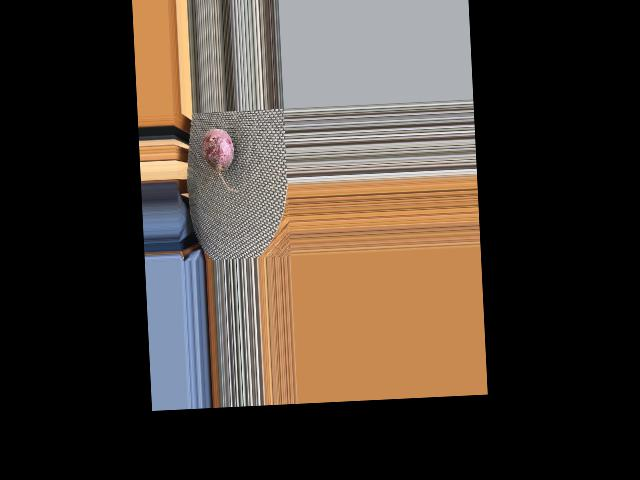beet: (200, 127, 239, 193)
